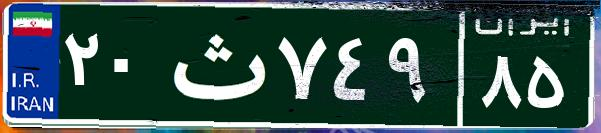0: (110, 28, 158, 105)
2: (57, 26, 110, 107)
4: (330, 28, 385, 110)
5: (525, 38, 570, 115)
7: (273, 28, 330, 110)
8: (475, 38, 525, 113)
9: (385, 28, 445, 110)
ث: (158, 15, 273, 115)
